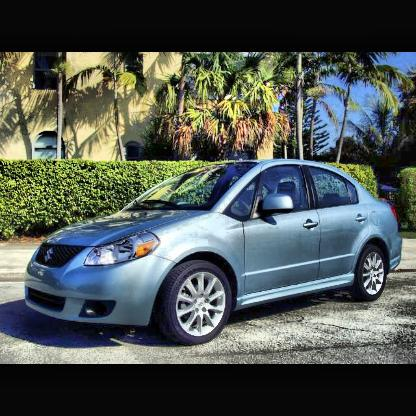Suzuki SX4 Sedan 2012: (24, 158, 406, 349)
